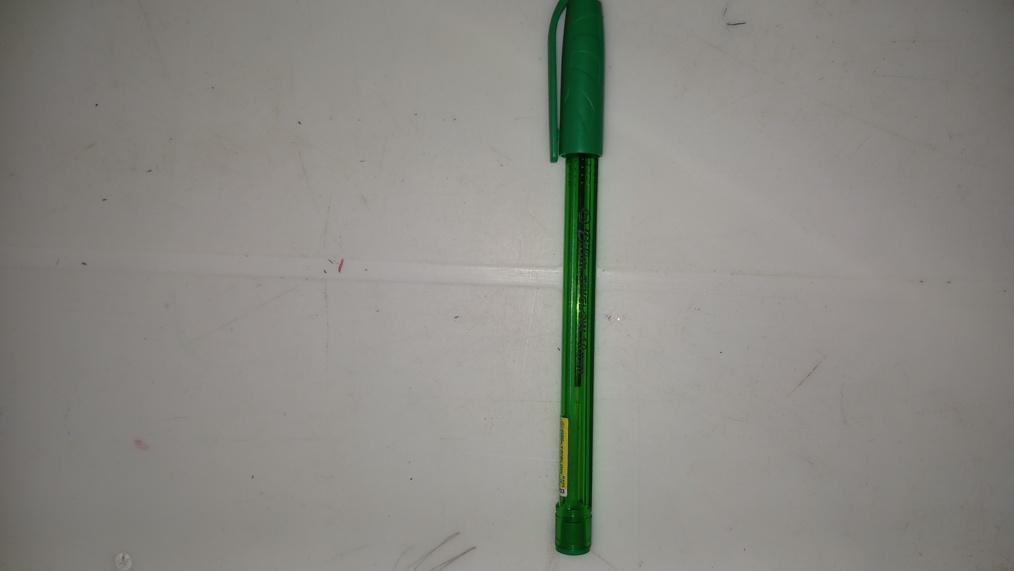pen: (543, 2, 608, 559)
